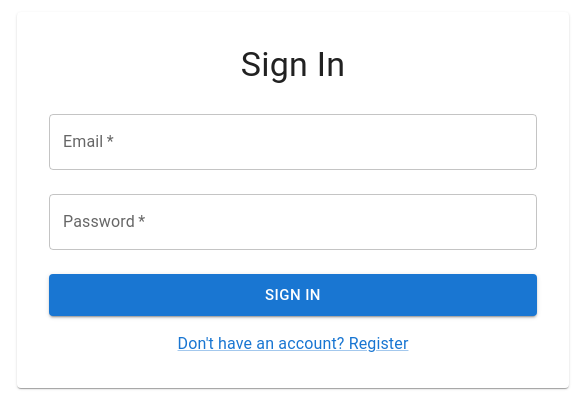
LoginPage › disables button while submitting
Type "test@test.com" into the field labelled "Email *" at (293, 142), box [49,114,537,170]
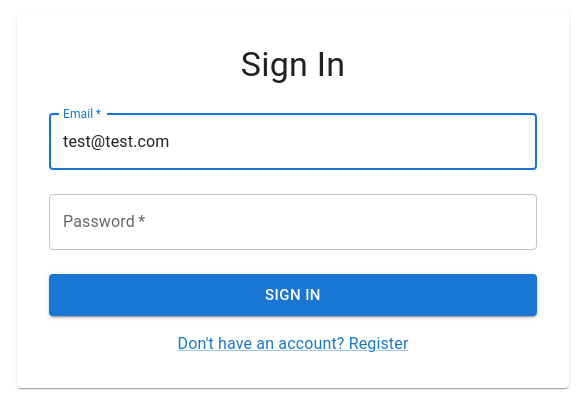
Type "pass" into the password field labelled "Password *" at (293, 222), box [49,194,537,250]
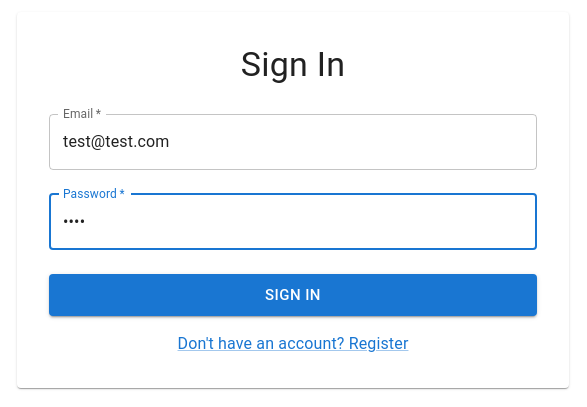
Click the button "Sign In" at (293, 295), box [49,274,537,316]
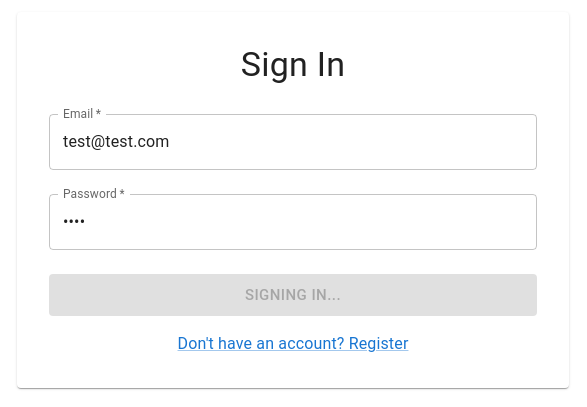
Expected: the button "Signing in..." is disabled, [49,274,537,316]
